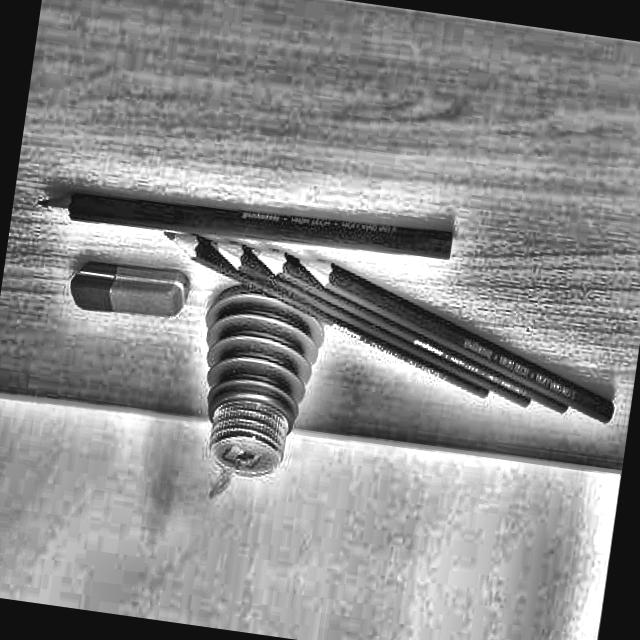eraser: (56, 243, 202, 365)
